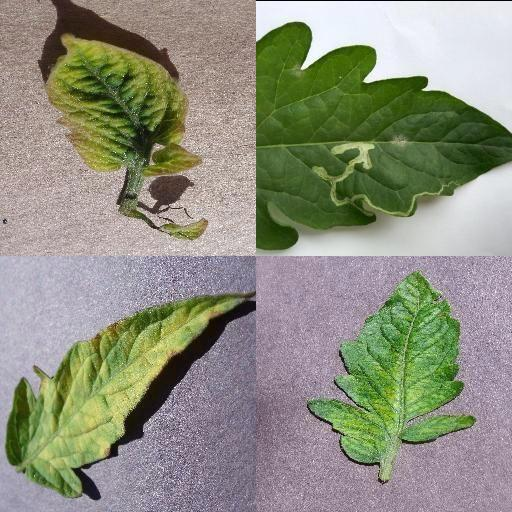Leaf Miner: (256, 20, 512, 249)
Leaf Mold: (4, 294, 246, 498)
Mosaic Virus: (308, 270, 476, 466)
Yellow Leaf Curl Virus: (45, 32, 205, 176)
